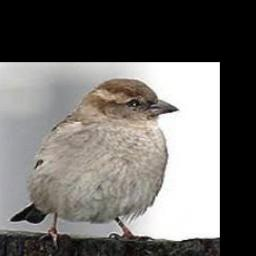Sparrow: (9, 77, 179, 249)
